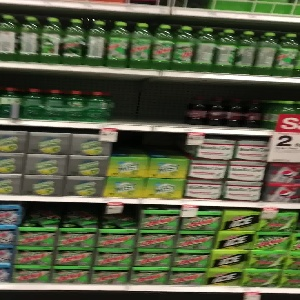void: (112, 73, 188, 129)
